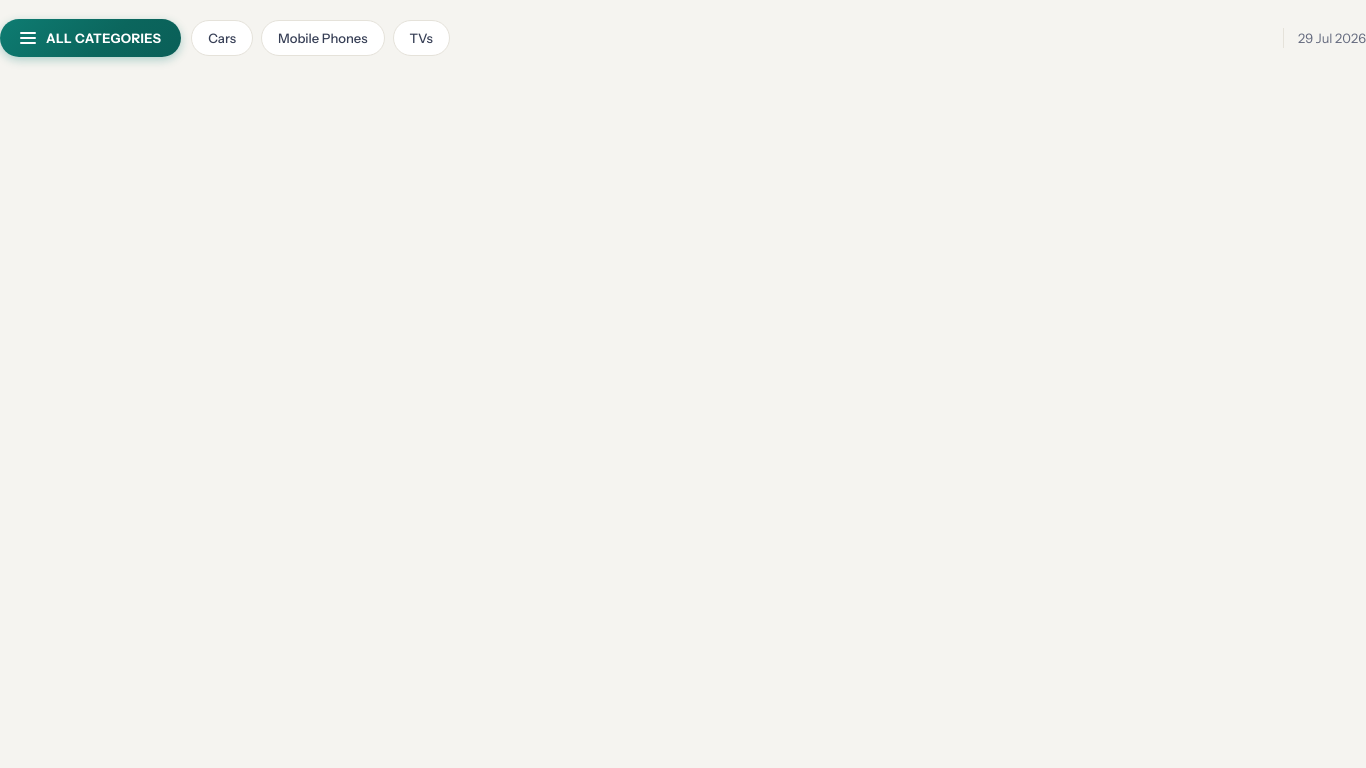
Test: CategoryMegaMenu › pressing Escape closes the open mega menu
The image size is (1366, 768).
Click the button "ALL CATEGORIES".
click(91, 38)  # box [0,19,181,57]
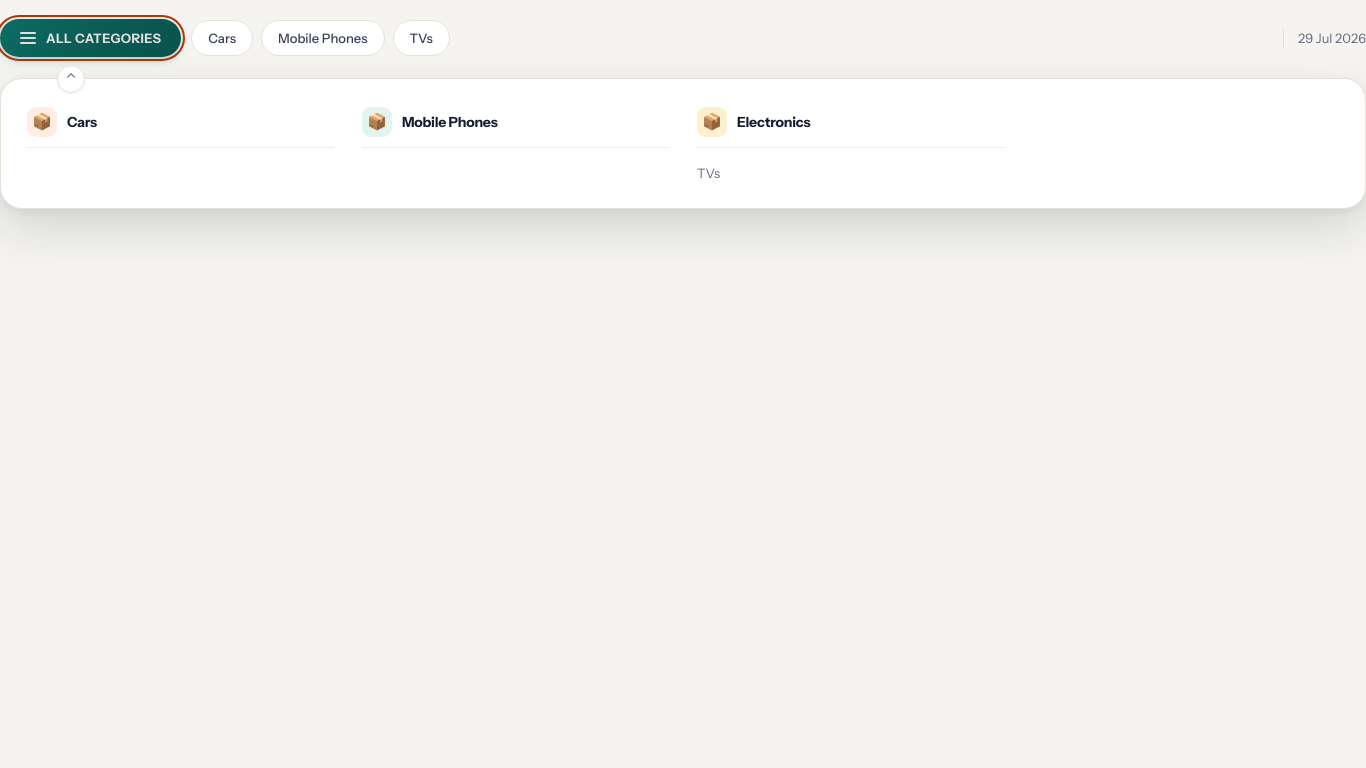
Expected: the dialog is shown, [0,78,1365,209]
Press Escape
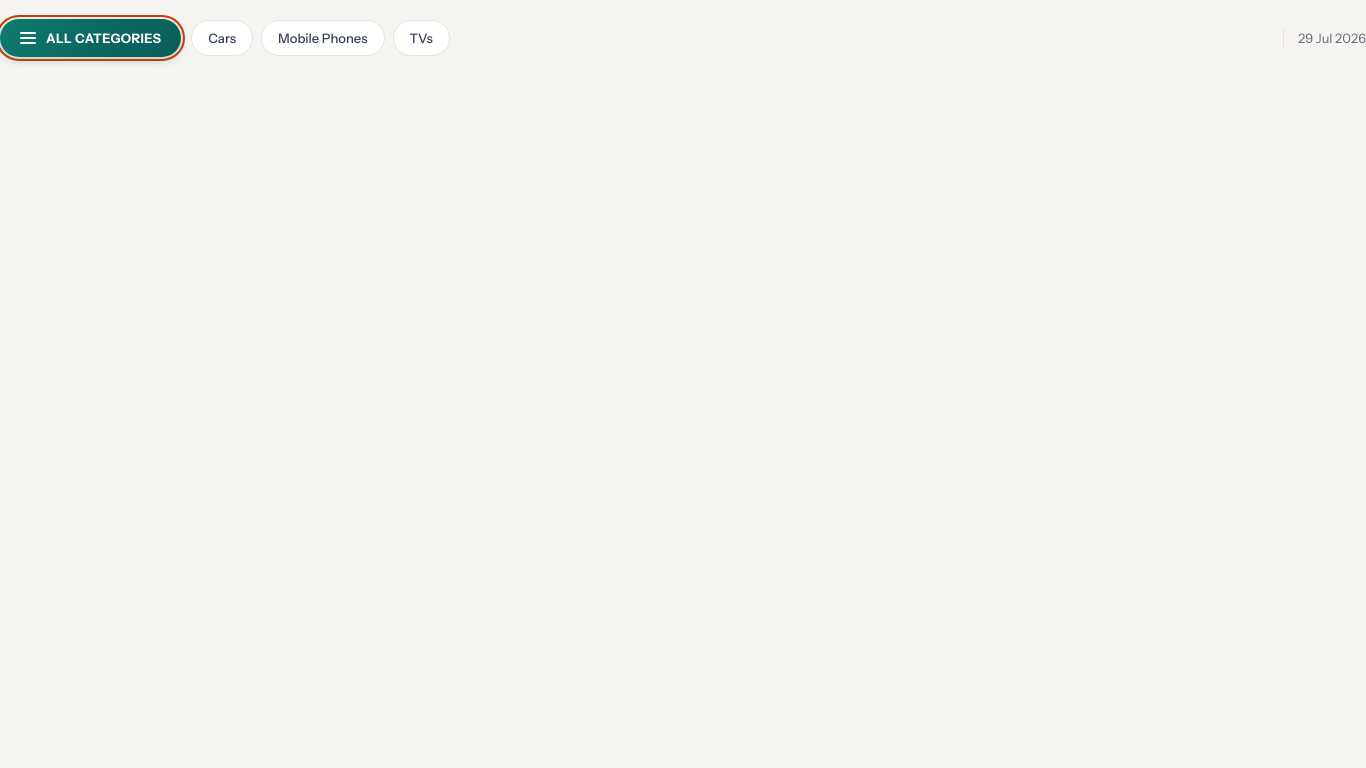
Expected: the dialog is gone
